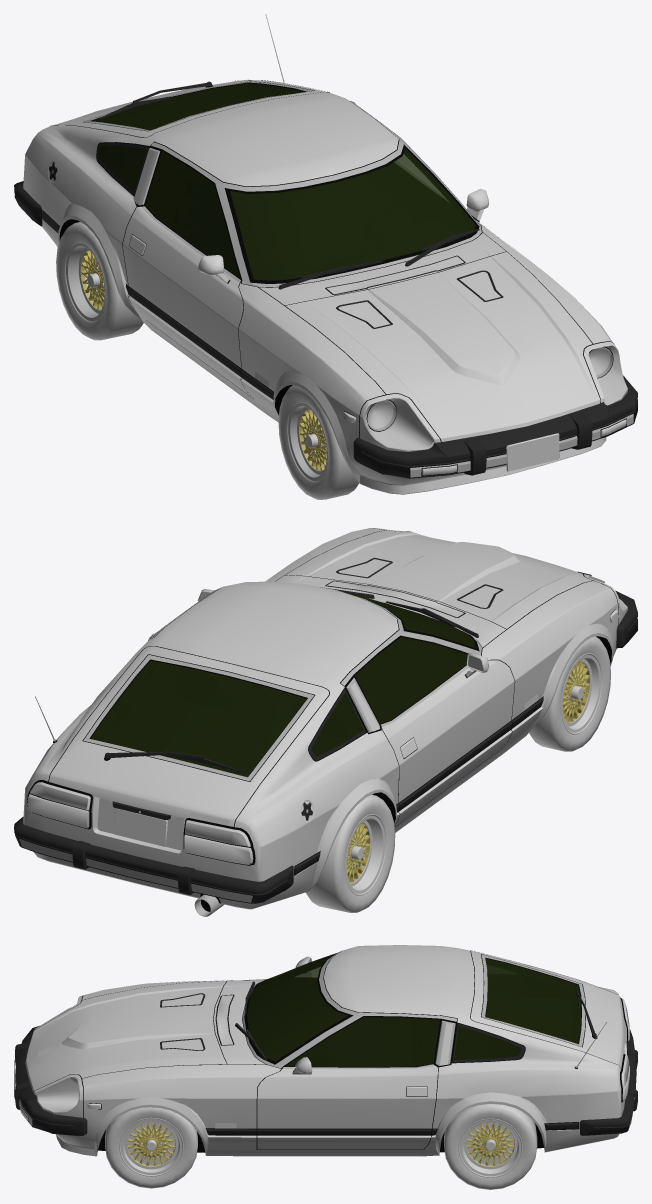
3 views of the same model, one above another, from view 1: azimuth 30°, elevation 25°; view 2: azimuth 150°, elevation 25°; view 3: azimuth 270°, elevation 25° (orthographic). The views are drawn at different scales.
Visible parts, largest first — view 1: body; view 2: body; view 3: body.
Part boxes in pixels (<box>): body: <box>14,14,637,499</box>; body: <box>14,528,637,916</box>; body: <box>14,945,637,1189</box>.
Size of the model in its own units: 1.22 by 0.8624 by 2.94.
